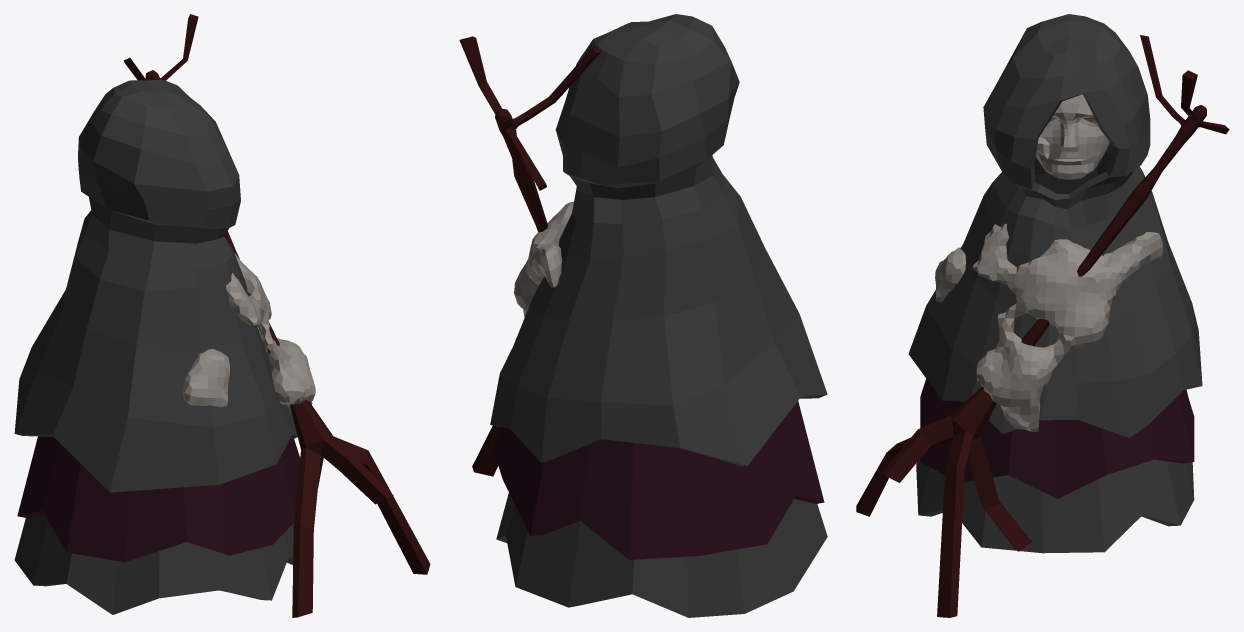
File: pilgrim1.fbx
The picture shows the model from 3 angles, left to right: view 1: azimuth 30°, elevation 25°; view 2: azimuth 150°, elevation 25°; view 3: azimuth 270°, elevation 25°; orthographic projection. The views are drawn at different scales.
Parts seen in each view (by area): view 1: hood_goodpoly, Cube.002, Cube.001, posoh, Mball.004; view 2: hood_goodpoly, Cube.002, Cube.001, posoh, Mball.004; view 3: hood_goodpoly, Mball.004, posoh, Cube.001, Cube.002, actual face.
Boxes of the visible parts, box(x1,y1,x2,y2) form: hood_goodpoly: box(14, 79, 297, 492); Cube.002: box(17, 436, 300, 562); Cube.001: box(14, 514, 293, 614); posoh: box(123, 14, 430, 617); Mball.004: box(182, 253, 315, 415); hood_goodpoly: box(490, 14, 827, 466); Cube.002: box(493, 401, 824, 559); Cube.001: box(496, 493, 827, 617); posoh: box(459, 36, 601, 476); Mball.004: box(514, 201, 573, 317); hood_goodpoly: box(908, 14, 1202, 437); Mball.004: box(935, 133, 1162, 432); posoh: box(856, 35, 1229, 617); Cube.001: box(916, 459, 1194, 553); Cube.002: box(920, 378, 1194, 498); actual face: box(1035, 94, 1109, 179).
Size of the model in its own units: 271 by 379 by 260.
